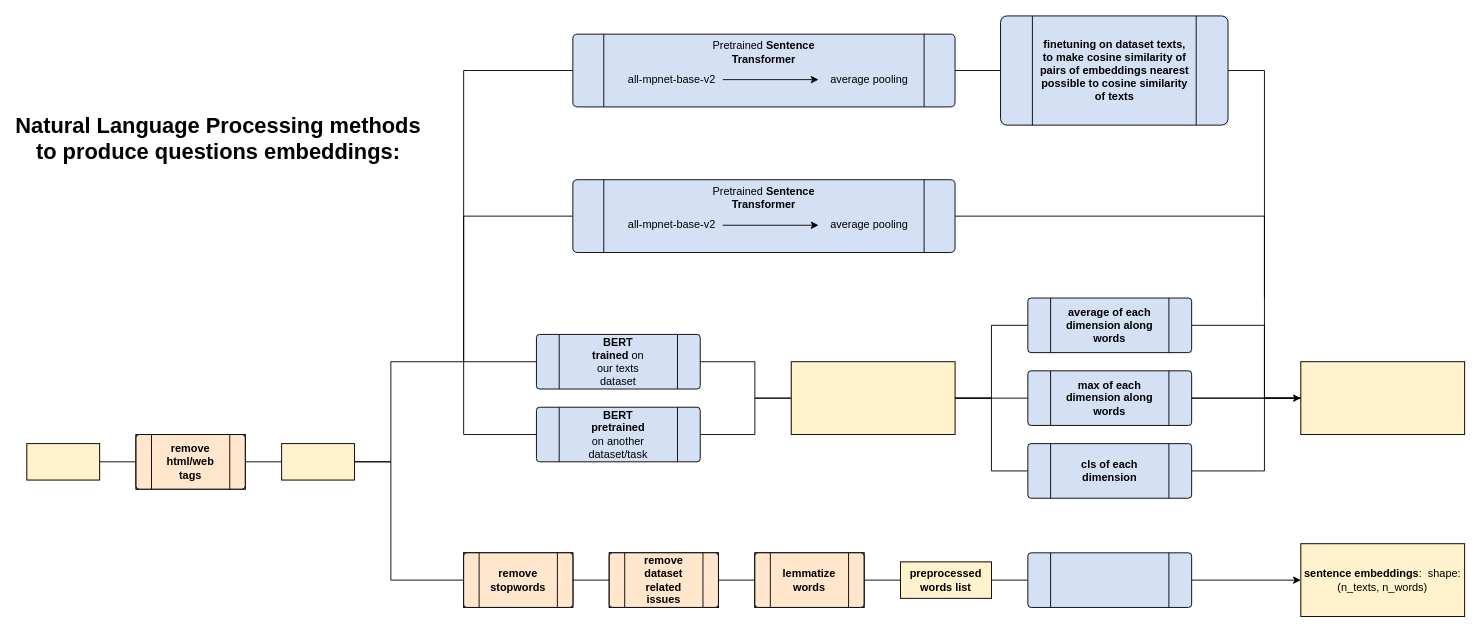
Image size: 1481x632. Some labels were removed from this diagram. Each missing label, with the centre of its shape:
"Count Vectorizer" belongs at (1109,579).
"plain text" belongs at (317,461).
"questions text" belongs at (63,461).
"sentence embeddings : shape: (n_texts, word_embedding_dim)" belongs at (1382,398).
"word embeddings : shape: (n_texts, n_words_in_texts, word_embedding_dim)" belongs at (872,398).
